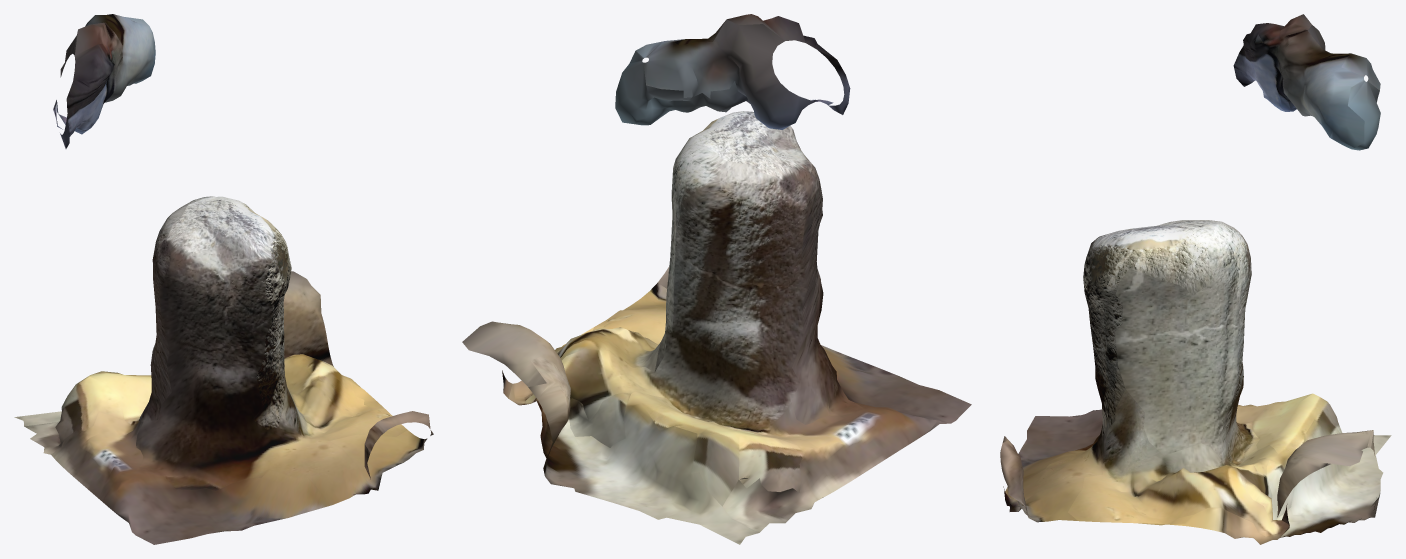
3 views of the same model, side by side, from view 1: azimuth 30°, elevation 25°; view 2: azimuth 150°, elevation 25°; view 3: azimuth 270°, elevation 25° (orthographic). The views are drawn at different scales.
Visible parts, largest first — view 1: Object; view 2: Object; view 3: Object.
Part boxes in pixels (x1,y1,x2,y2): Object: (14,14,433,544); Object: (462,14,971,544); Object: (1000,14,1391,544).
Bounding box in the file's own units: 0.6694 × 0.9117 × 0.7405.
1 material, 1 textured.
